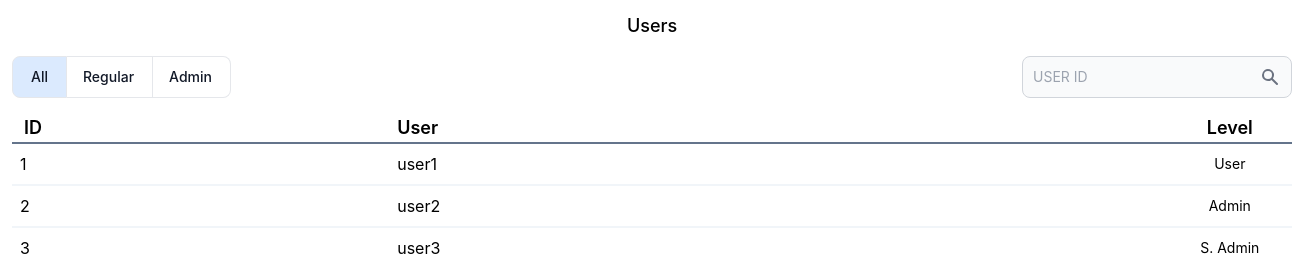
Scenario: AllUsersPage › should only show admins when sorting by admin
Expected: the text "user1" is shown, x1=397 y1=154 x2=437 y2=174
Expected: the text "user2" is shown, x1=397 y1=196 x2=440 y2=216
// Simulate click event on "Open" button
Click the button "Admin" at (192, 77), box x1=153 y1=56 x2=231 y2=98
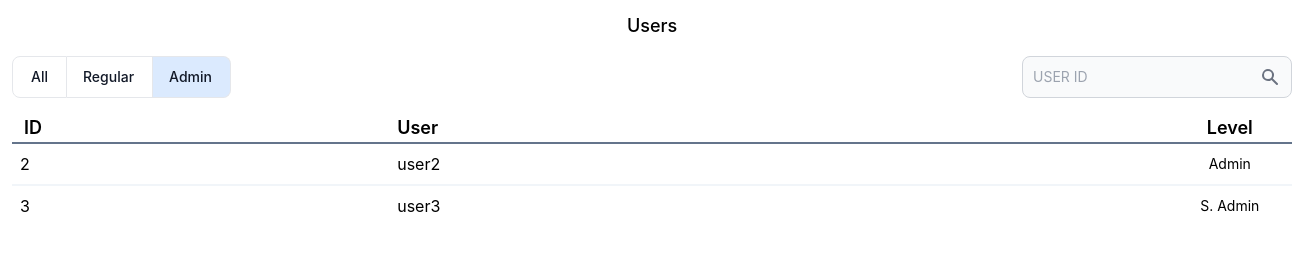
Expected: the text "user2" is shown, x1=397 y1=154 x2=440 y2=174
Now the text "user1" is gone
